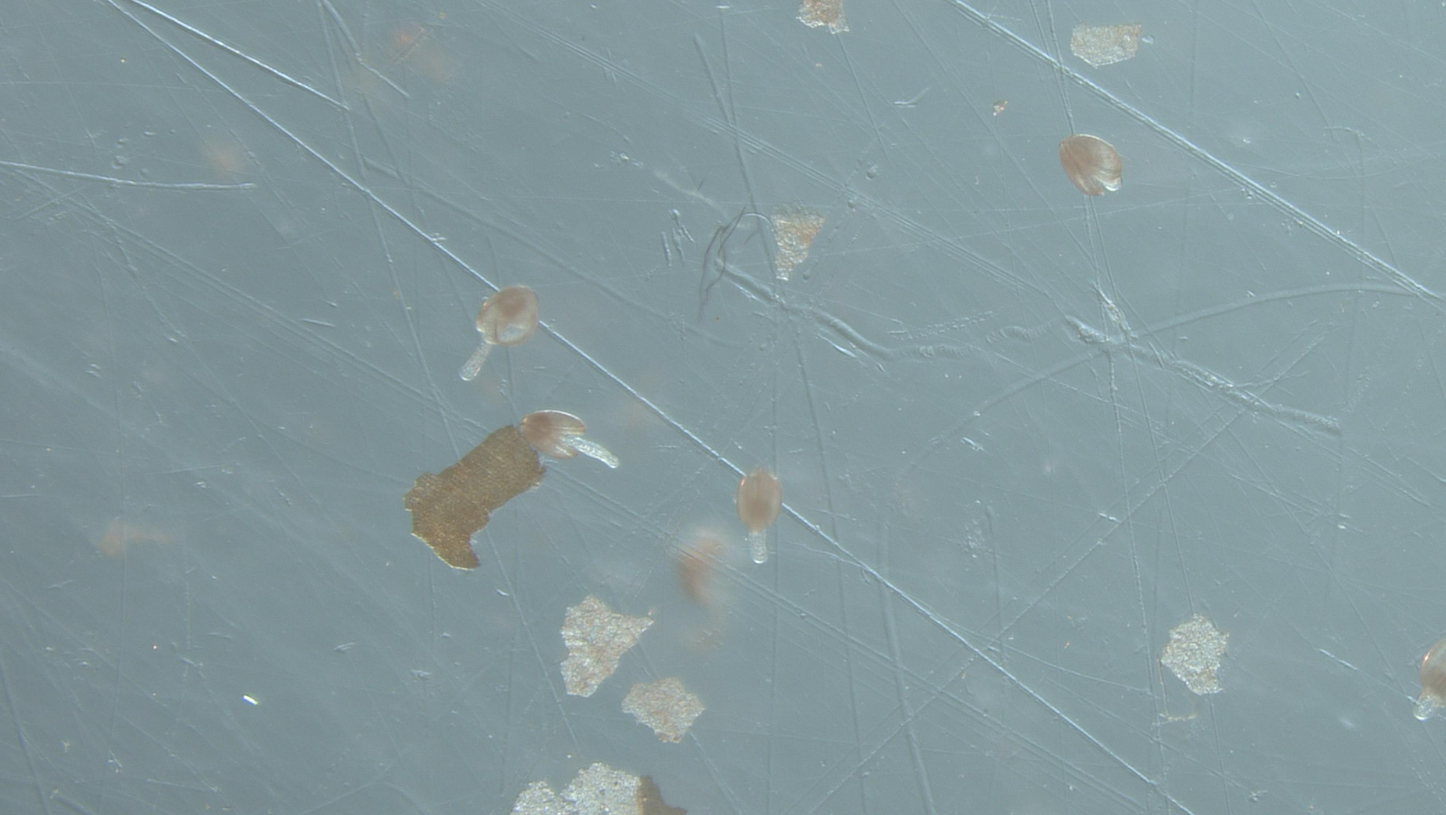live: (460, 285, 539, 381), (518, 411, 619, 469), (736, 470, 782, 564), (1059, 135, 1123, 197), (1414, 639, 1446, 721)
